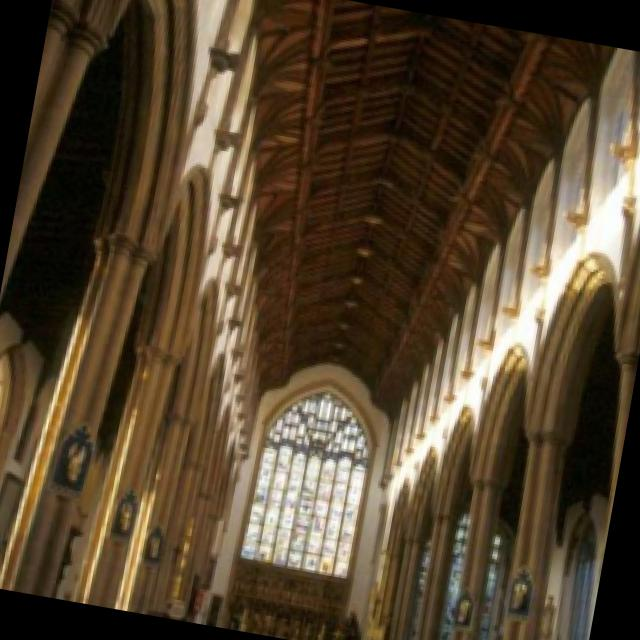2001: (243, 388, 374, 577)
arcades: (362, 49, 640, 640), (0, 0, 265, 616)
ceiling beam: (256, 0, 622, 412), (5, 21, 126, 373), (105, 308, 142, 439)
lamp crop: (358, 240, 379, 255), (351, 267, 369, 284), (365, 210, 385, 224), (347, 291, 361, 303)
wall clock: (373, 208, 640, 640), (204, 359, 393, 640), (0, 308, 113, 597)
